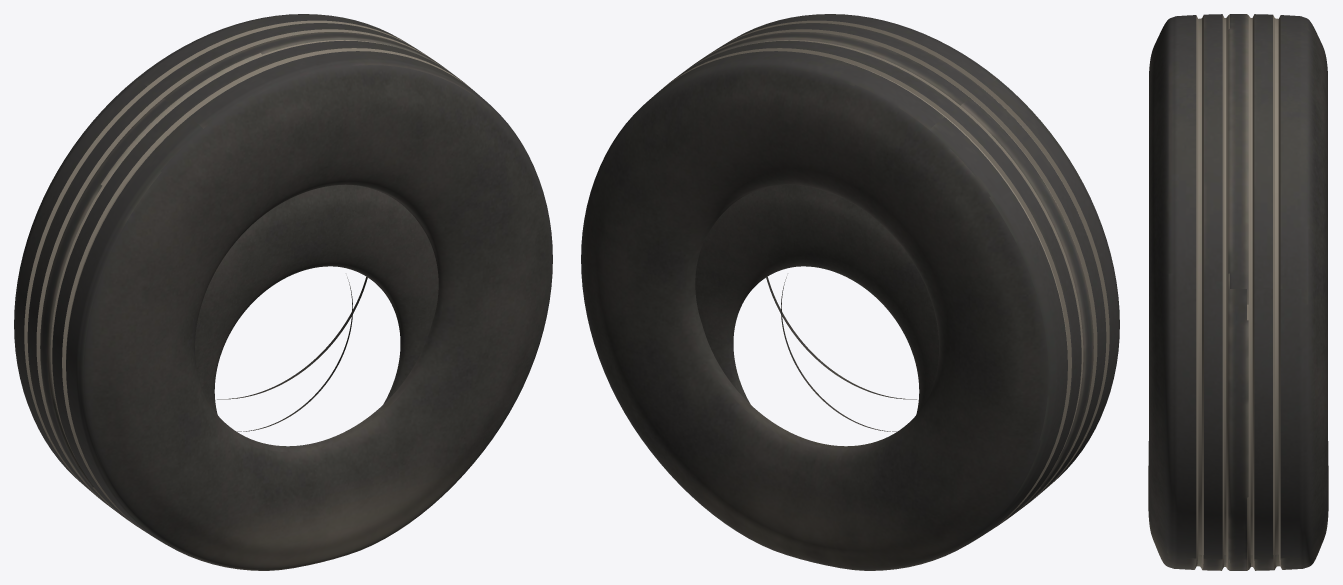
The model's file is tyres.glb.
3 renders of one model, left to right at view 1: azimuth 30°, elevation 25°; view 2: azimuth 150°, elevation 25°; view 3: azimuth 270°, elevation 25°, orthographic.
Visible parts, largest first — view 1: tyre_main, tyre_nose; view 2: tyre_main, tyre_nose; view 3: tyre_main.
Boxes of the visible parts, x1,y1,x2,y2 form: tyre_main: (14,14,552,570); tyre_nose: (195,184,438,431); tyre_main: (581,14,1119,570); tyre_nose: (695,184,938,431); tyre_main: (1148,14,1328,570).
Size of the model in its own units: 0.482 by 0.4757 by 0.1562.
Materials: 2 (2 with a texture image).
